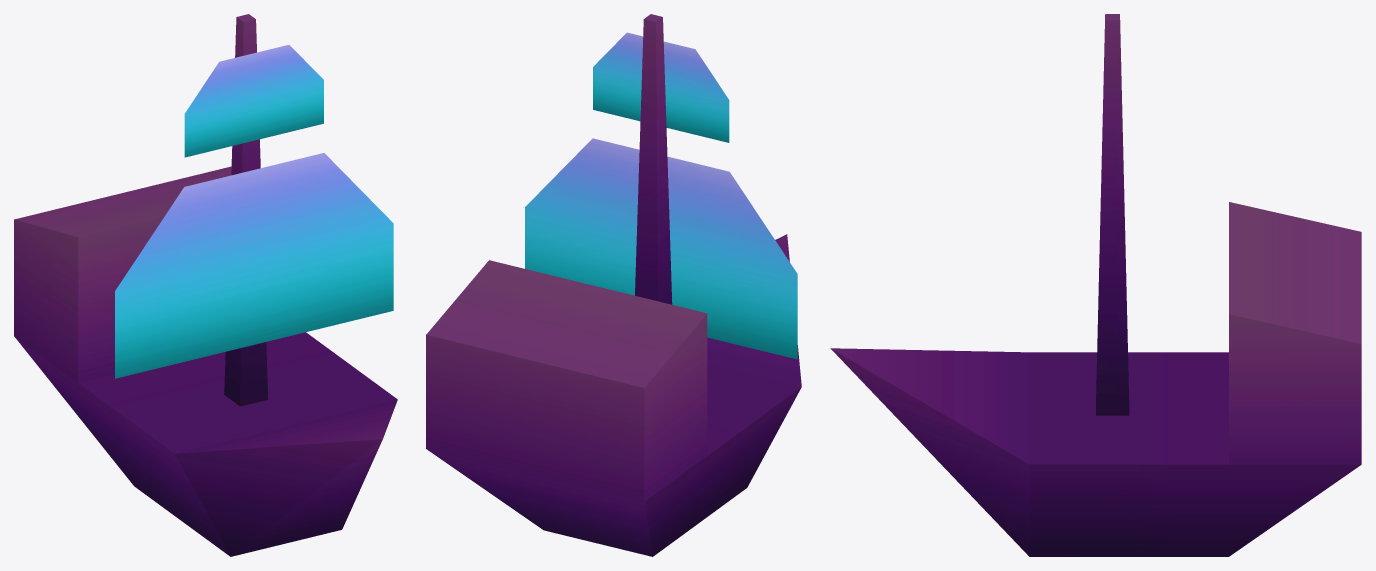
File: boat.glb
3 renders of one model, left to right at view 1: azimuth 30°, elevation 25°; view 2: azimuth 150°, elevation 25°; view 3: azimuth 270°, elevation 25°, orthographic. The views are drawn at different scales.
Visible parts, largest first — view 1: boat, Plane.001, Plane.002, Cube.004; view 2: boat, Plane.001, Plane.002, Cube.004; view 3: boat, Cube.004.
Part boxes in pixels (bbox=[...]): boat: bbox=[14, 166, 397, 556]; Plane.001: bbox=[115, 153, 393, 378]; Plane.002: bbox=[184, 45, 323, 157]; Cube.004: bbox=[224, 14, 268, 406]; boat: bbox=[426, 234, 801, 556]; Plane.001: bbox=[525, 138, 797, 359]; Plane.002: bbox=[593, 32, 729, 142]; Cube.004: bbox=[635, 14, 672, 304]; boat: bbox=[830, 202, 1361, 556]; Cube.004: bbox=[1096, 14, 1129, 415].
Bounding box in the file's own units: 1 × 1.7 × 1.6.
Materials: 1 (1 with a texture image).
